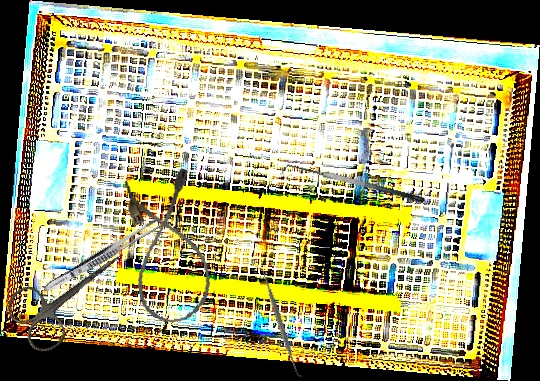Cannula: (121, 166, 216, 328)
Dressing Forceps: (41, 215, 164, 296)
Iris Scissors: (0, 227, 144, 359)
Spatula Surgical: (280, 156, 426, 215), (254, 262, 305, 381)
